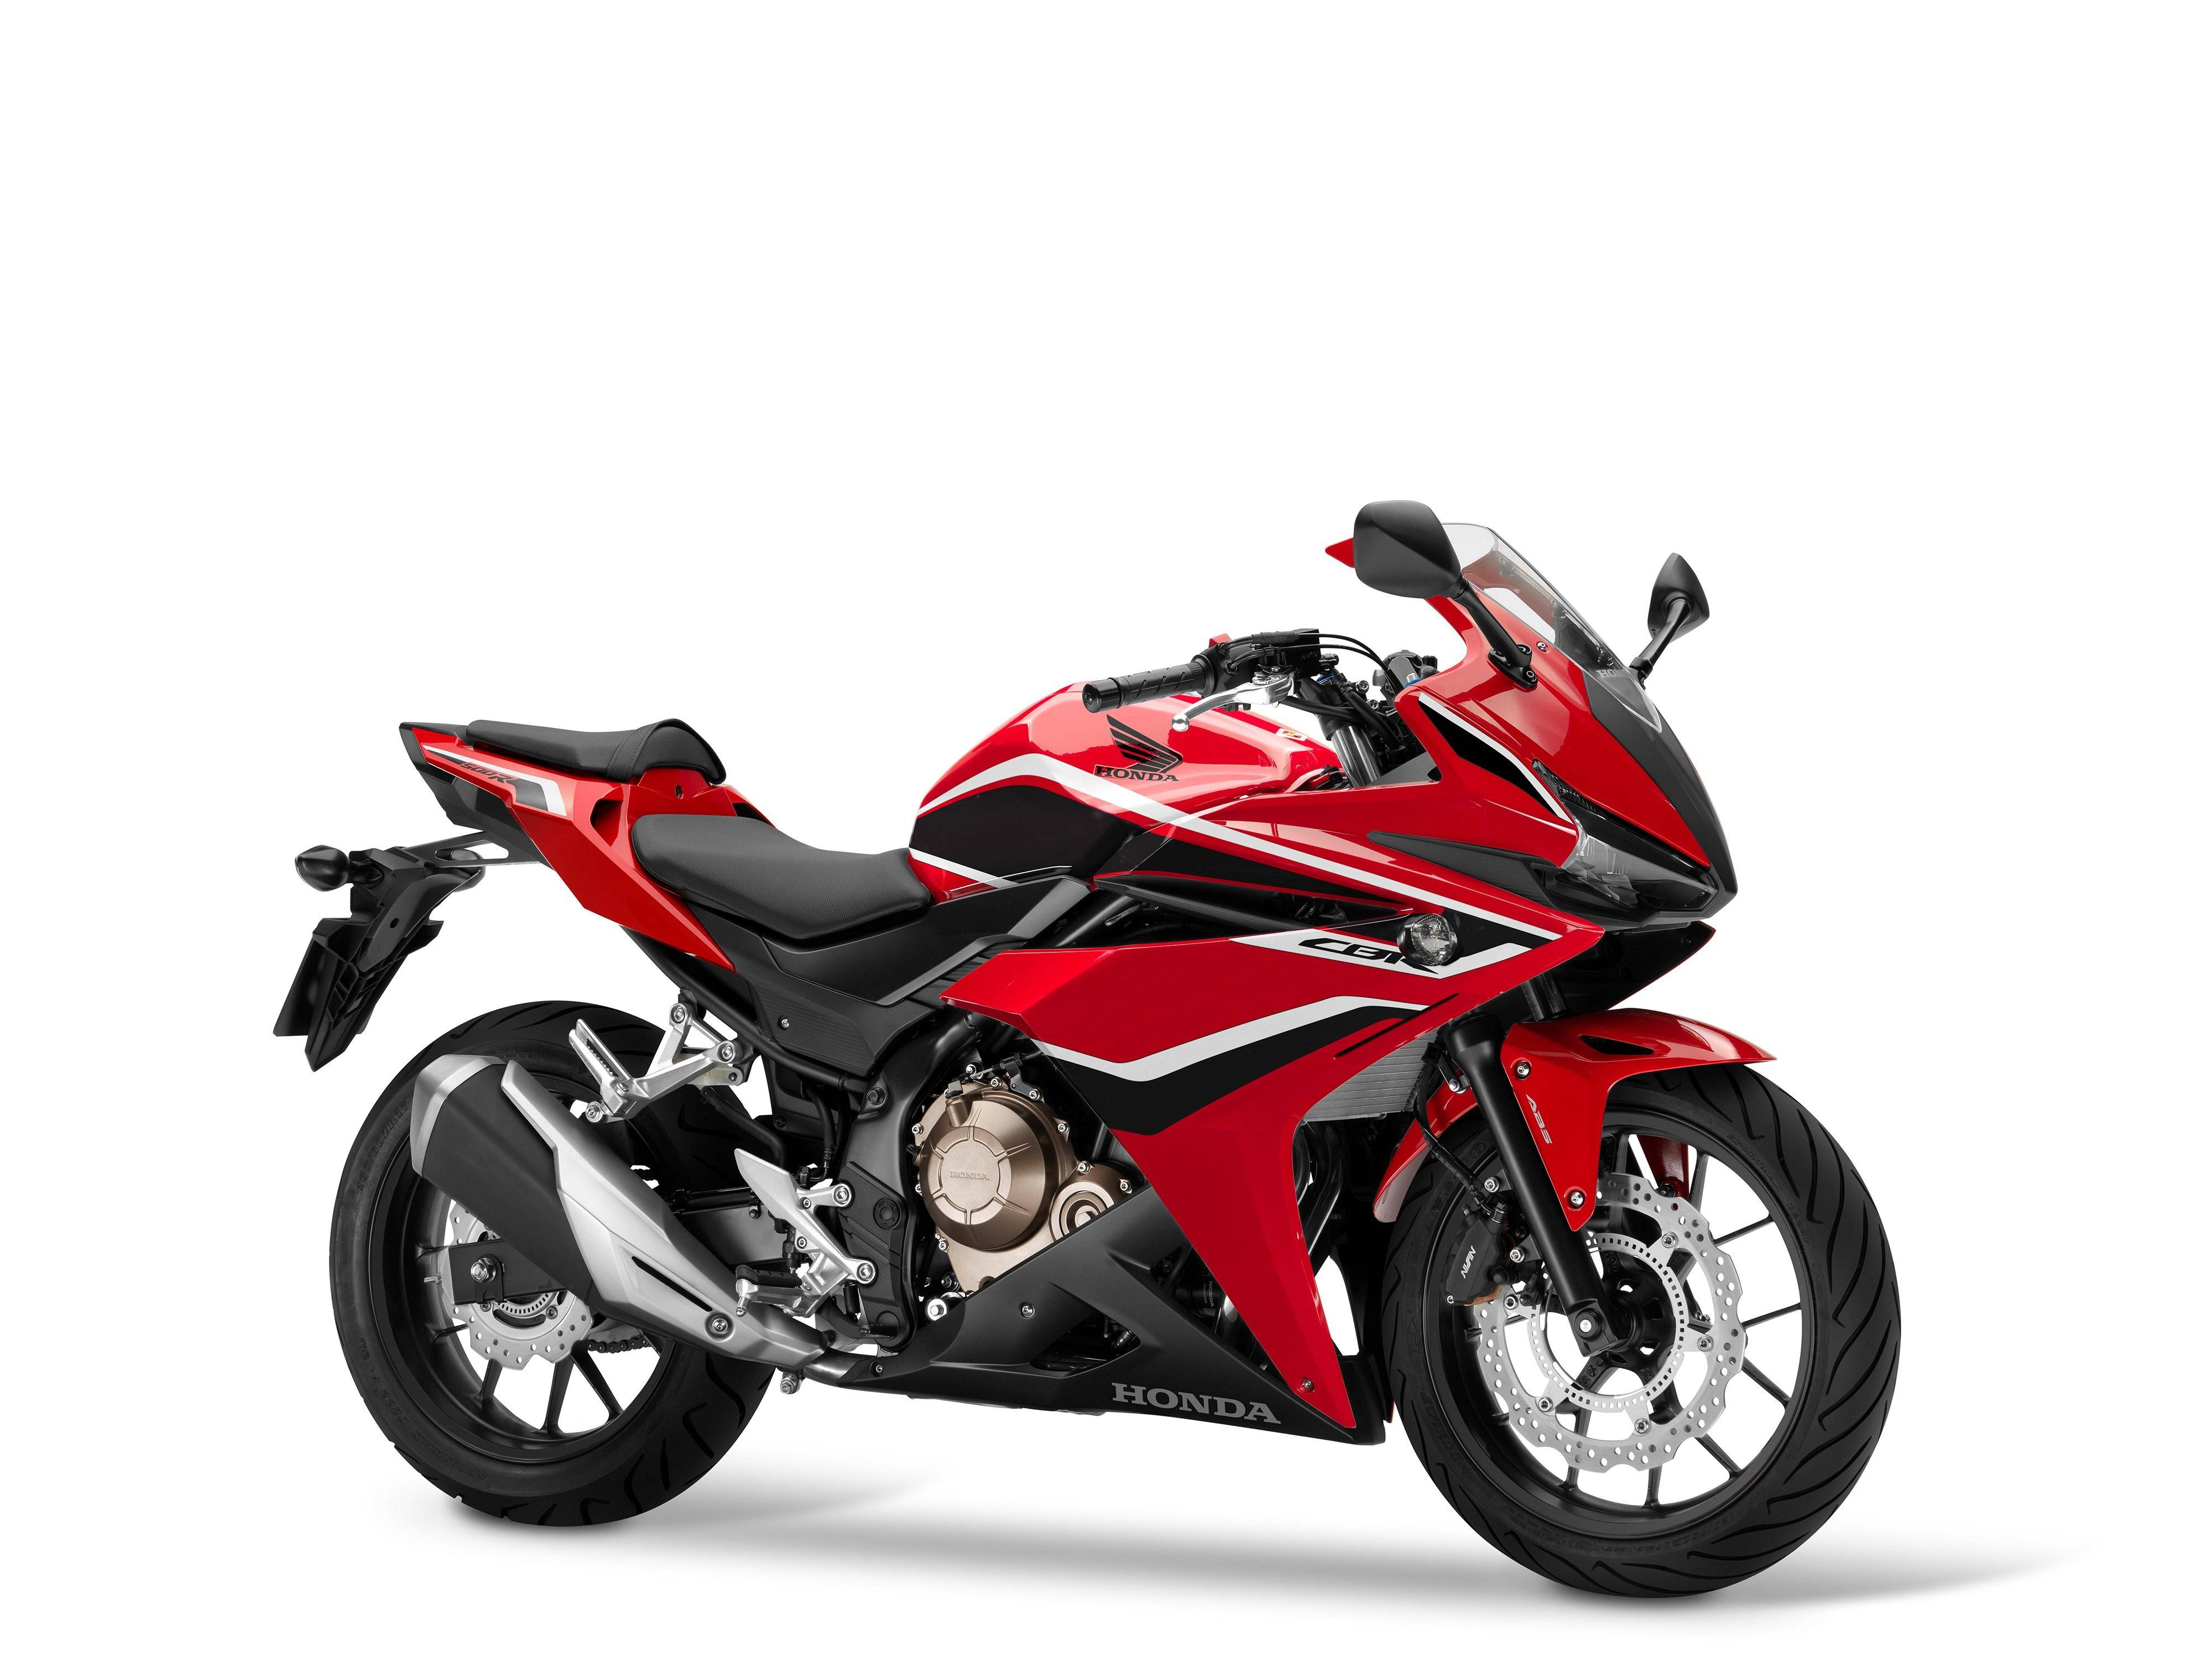motorcycle: (265, 496, 1909, 1605)
